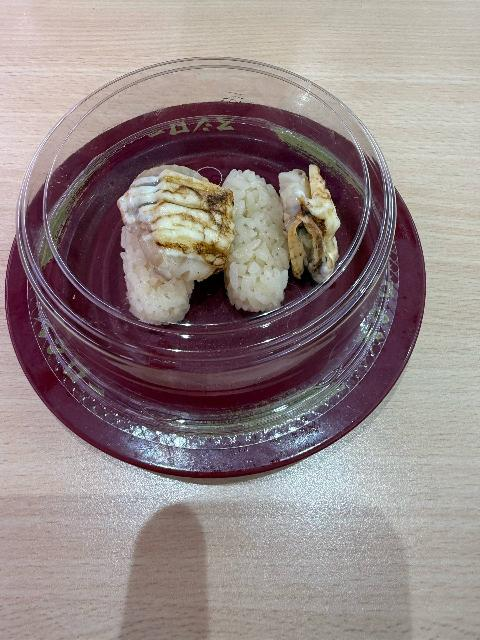janred: (30, 95, 410, 507)
